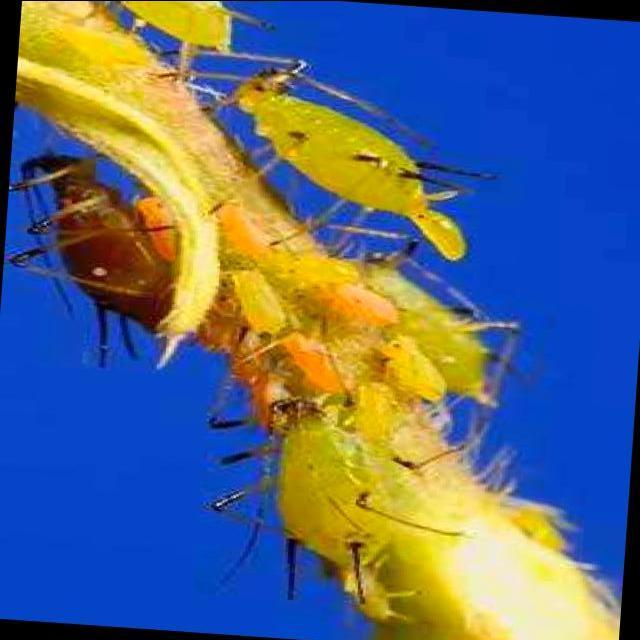aphid: (4, 150, 236, 362), (196, 53, 444, 225), (202, 391, 404, 572), (368, 245, 510, 403), (90, 0, 251, 53)
